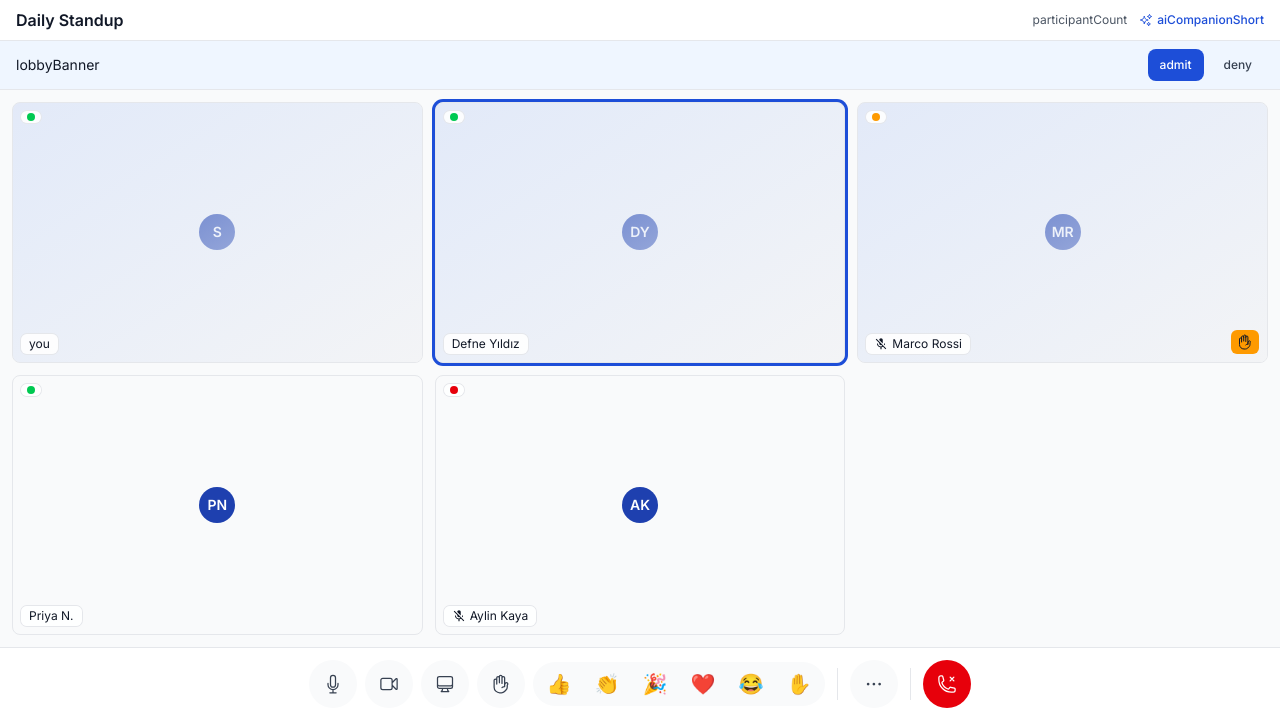
MeetingExperience › leave returns to idle landing
Click the button named "leave". click: (947, 684)
box: [923, 660, 971, 708]
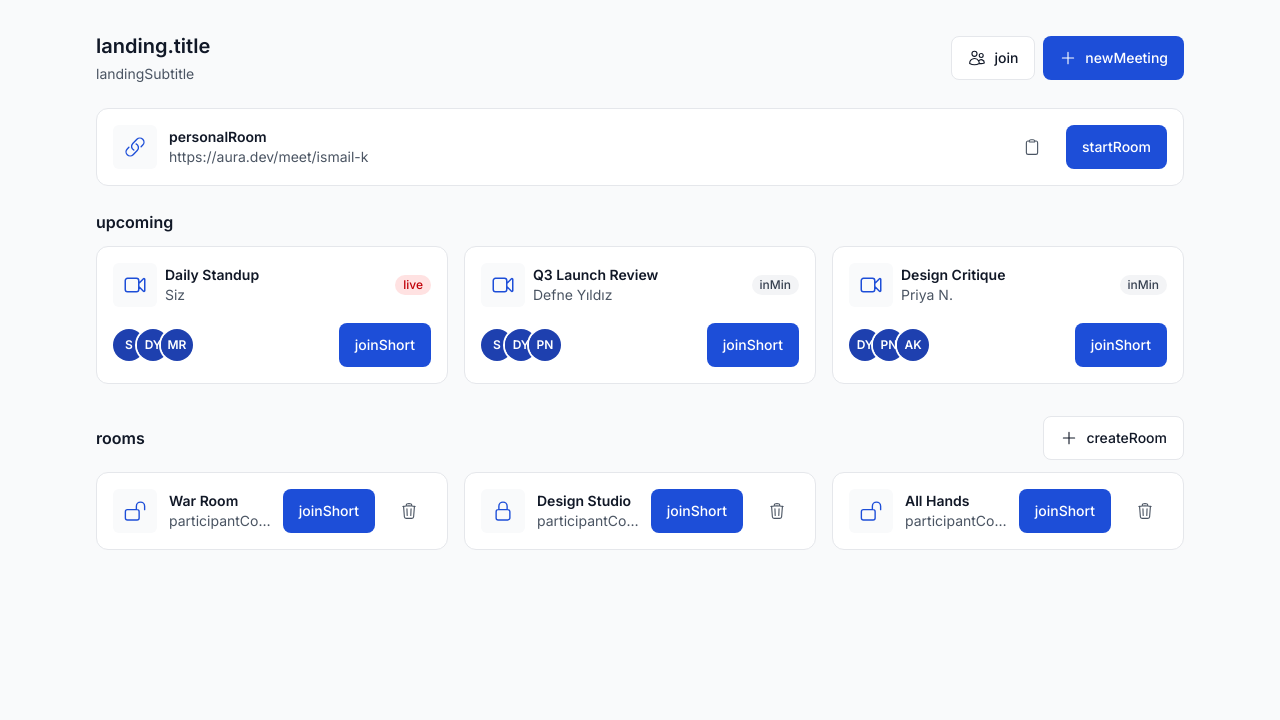
Expected: the element with test id "meeting-landing" is shown
